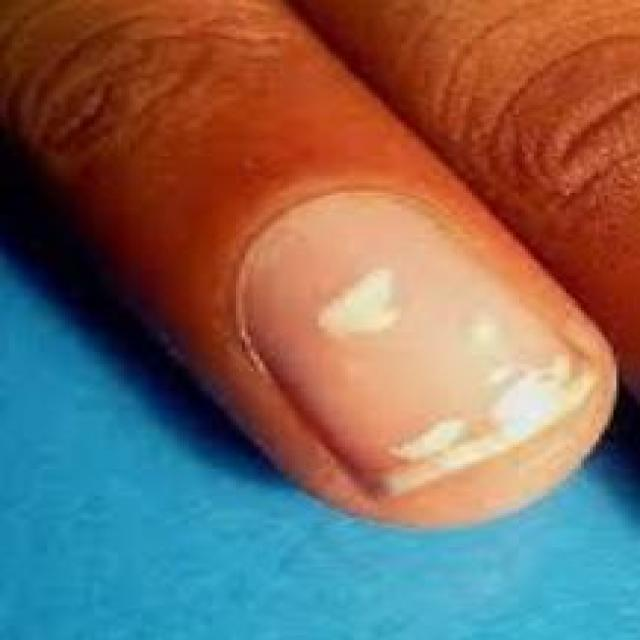Nail: (240, 193, 593, 494)
